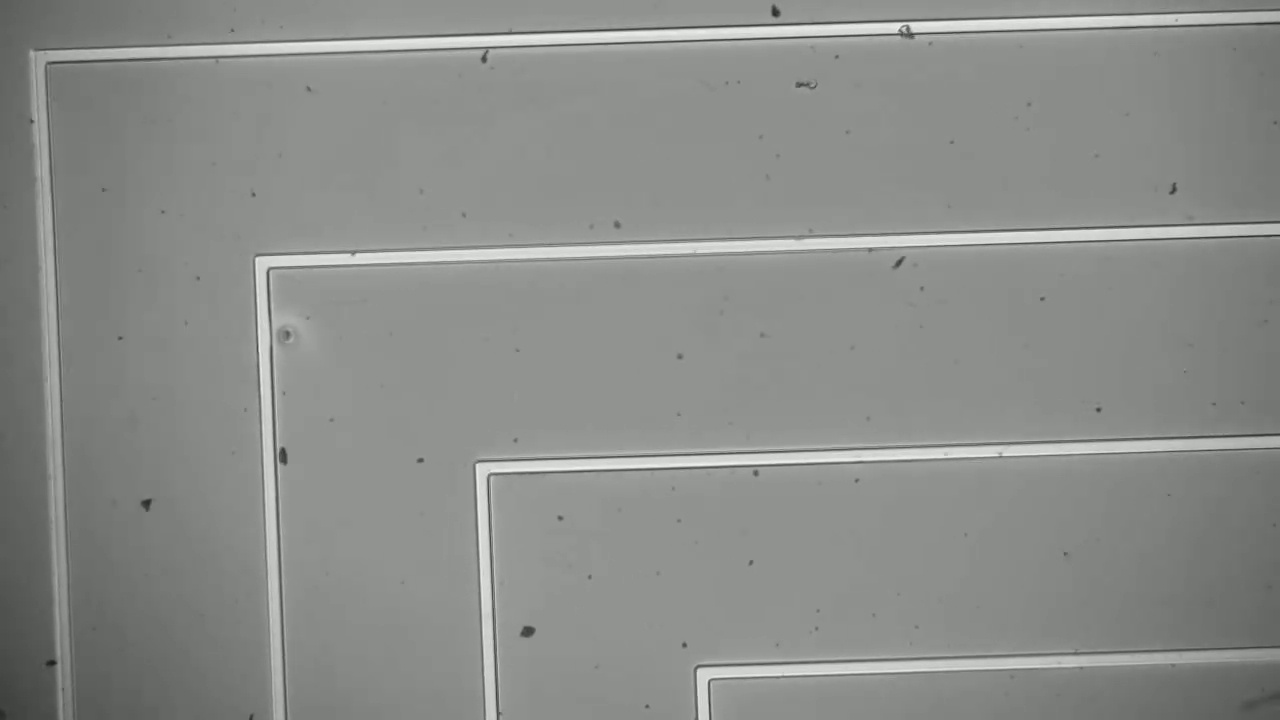stains_enbedded: (892, 16, 923, 49)
